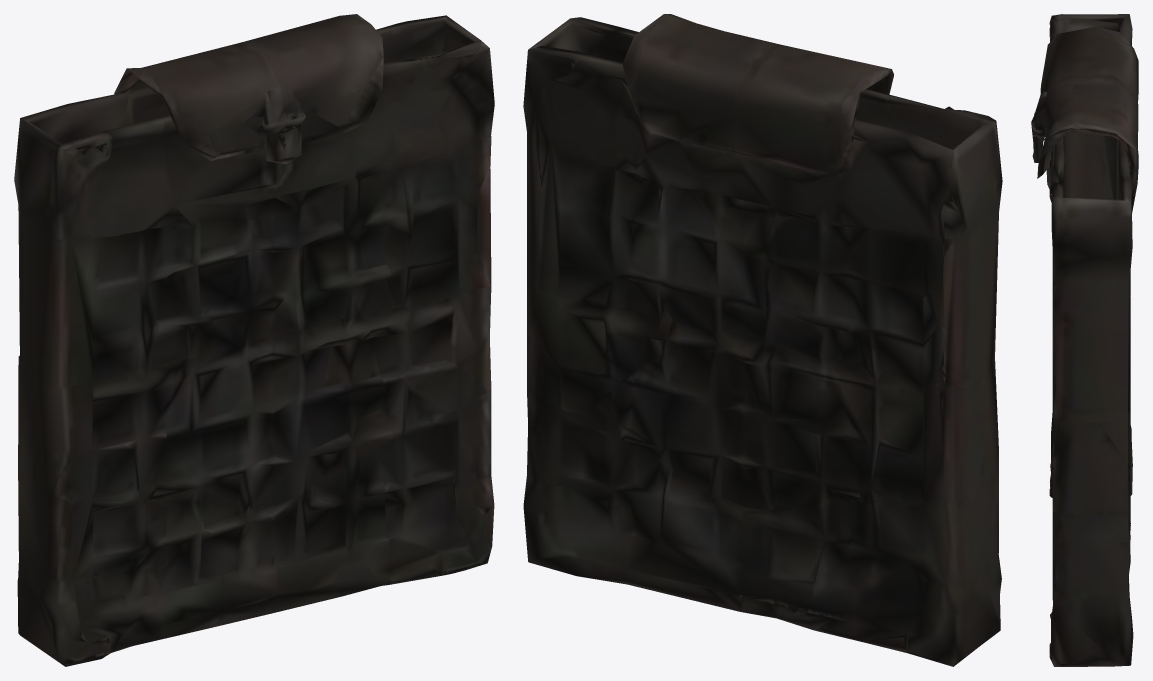
Rendered from Backpack_Inventory.glb.
3 renders of one model, left to right at view 1: azimuth 30°, elevation 25°; view 2: azimuth 150°, elevation 25°; view 3: azimuth 270°, elevation 25°, orthographic. The views are drawn at different scales.
Size of the model in its own units: 1.56 by 1.89 by 0.3679.
1 material, 1 textured.
